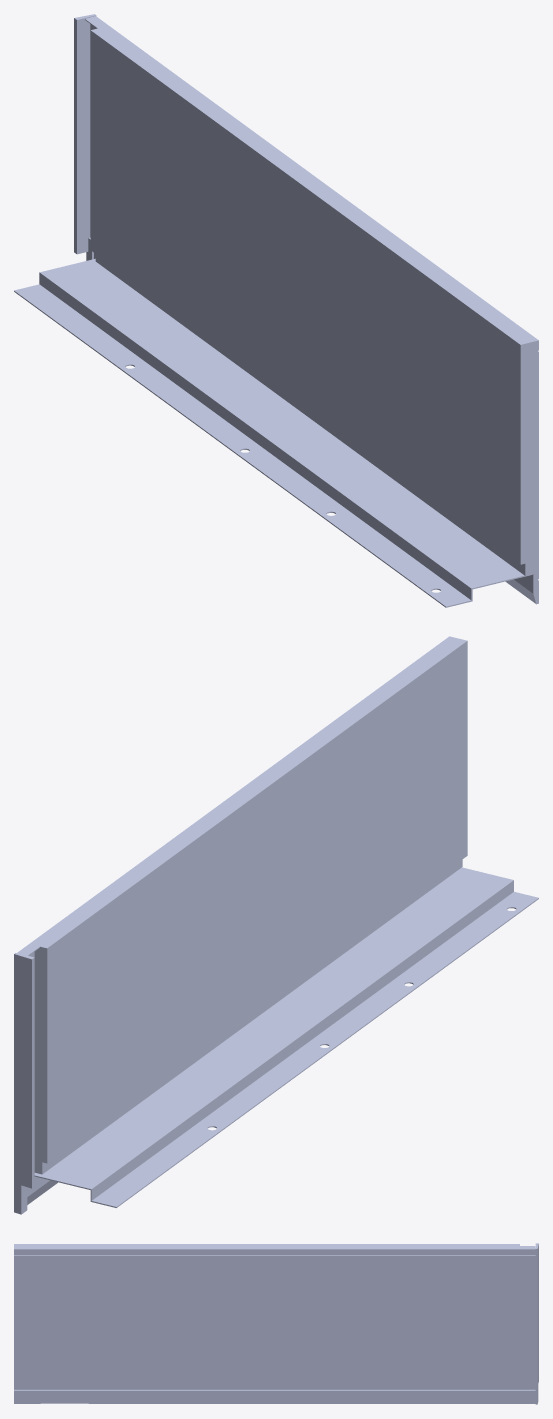
File: lg-kava-C550-m.glb
3 views of the same model, one above another, from view 1: azimuth 30°, elevation 25°; view 2: azimuth 150°, elevation 25°; view 3: azimuth 270°, elevation 25° (orthographic). The views are drawn at different scales.
Parts seen in each view (by area): view 1: 48294355; view 2: 48294355; view 3: 48294355.
Boxes of the visible parts, <box> form: 48294355: <box>14,14,538,607</box>; 48294355: <box>14,636,538,1214</box>; 48294355: <box>14,1243,538,1404</box>.
Size of the model in its own units: 0.0653 by 0.1777 by 0.5435.
